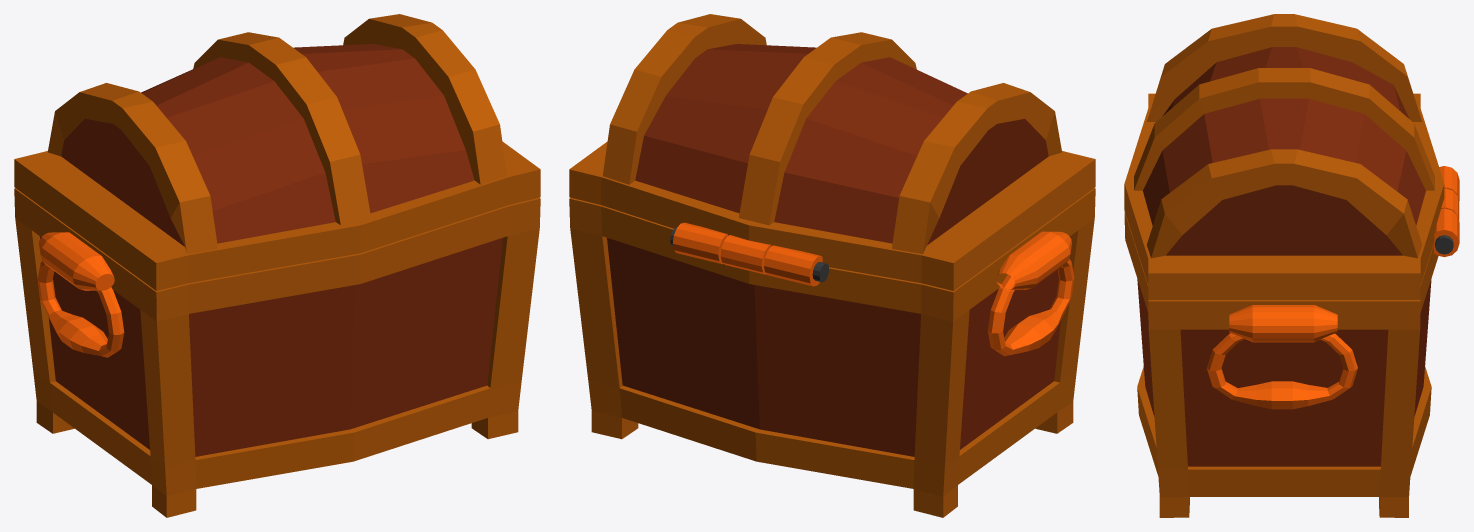
Rendered from Chest_1.fbx.
3 renders of one model, left to right at view 1: azimuth 30°, elevation 25°; view 2: azimuth 150°, elevation 25°; view 3: azimuth 270°, elevation 25°, orthographic. The views are drawn at different scales.
Parts seen in each view (by area): view 1: Chest.003, ChestLid.003; view 2: Chest.003, ChestLid.003; view 3: ChestLid.003, Chest.003.
Part boxes in pixels (left/top/right/bottom): Chest.003: left=14, top=188, right=540, bottom=517; ChestLid.003: left=14, top=14, right=540, bottom=290; Chest.003: left=569, top=188, right=1095, bottom=517; ChestLid.003: left=569, top=14, right=1095, bottom=290; ChestLid.003: left=1124, top=14, right=1459, bottom=299; Chest.003: left=1124, top=166, right=1459, bottom=517.
Size of the model in its own units: 45.35 by 36.8 by 30.98.
